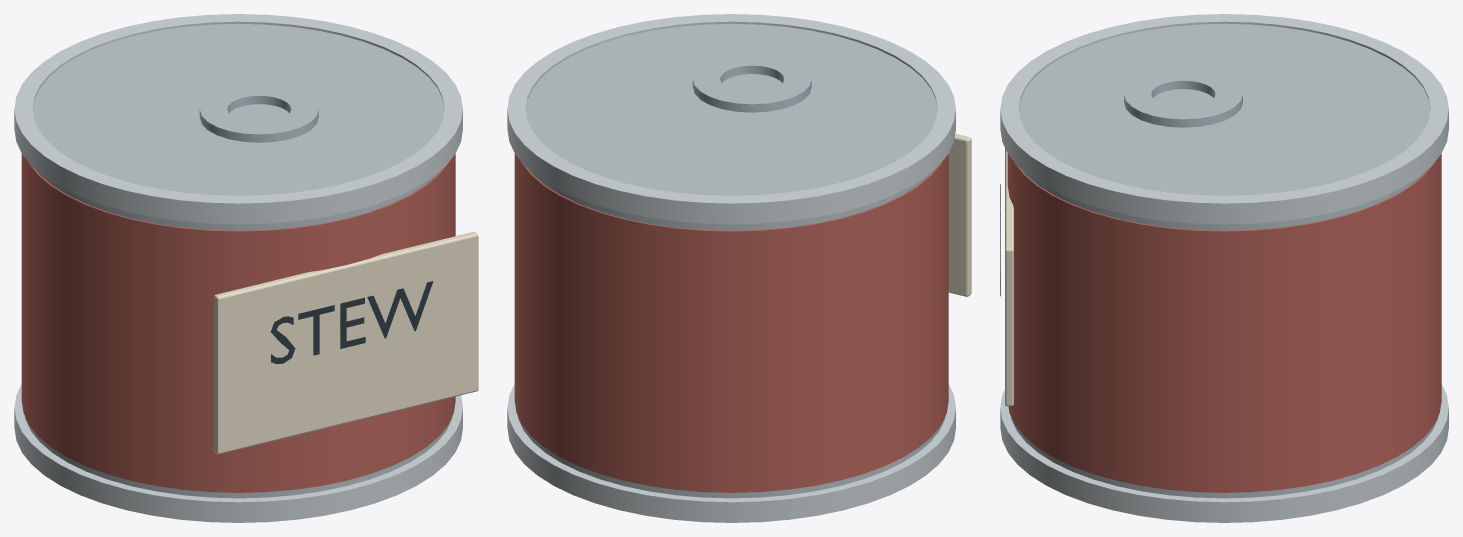
Rendered from loot_canned_food.glb.
3 renders of one model, left to right at view 1: azimuth 30°, elevation 25°; view 2: azimuth 150°, elevation 25°; view 3: azimuth 270°, elevation 25°, orthographic.
Parts seen in each view (by area): view 1: loot_canned_food; view 2: loot_canned_food; view 3: loot_canned_food.
Boxes of the visible parts, left/top/right/bottom form: loot_canned_food: left=14, top=14, right=478, bottom=522; loot_canned_food: left=507, top=14, right=971, bottom=522; loot_canned_food: left=1000, top=14, right=1448, bottom=522.
Bounding box in the file's own units: 0.098 × 0.0805 × 0.0981.
